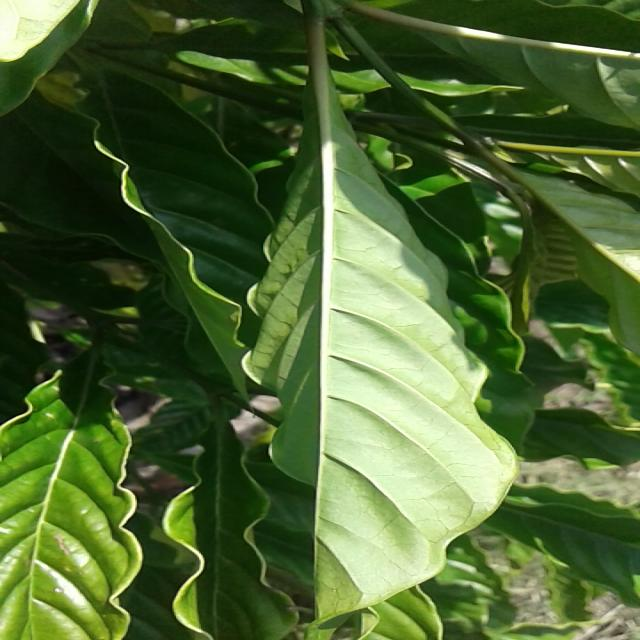Sanas: (253, 0, 521, 620)
